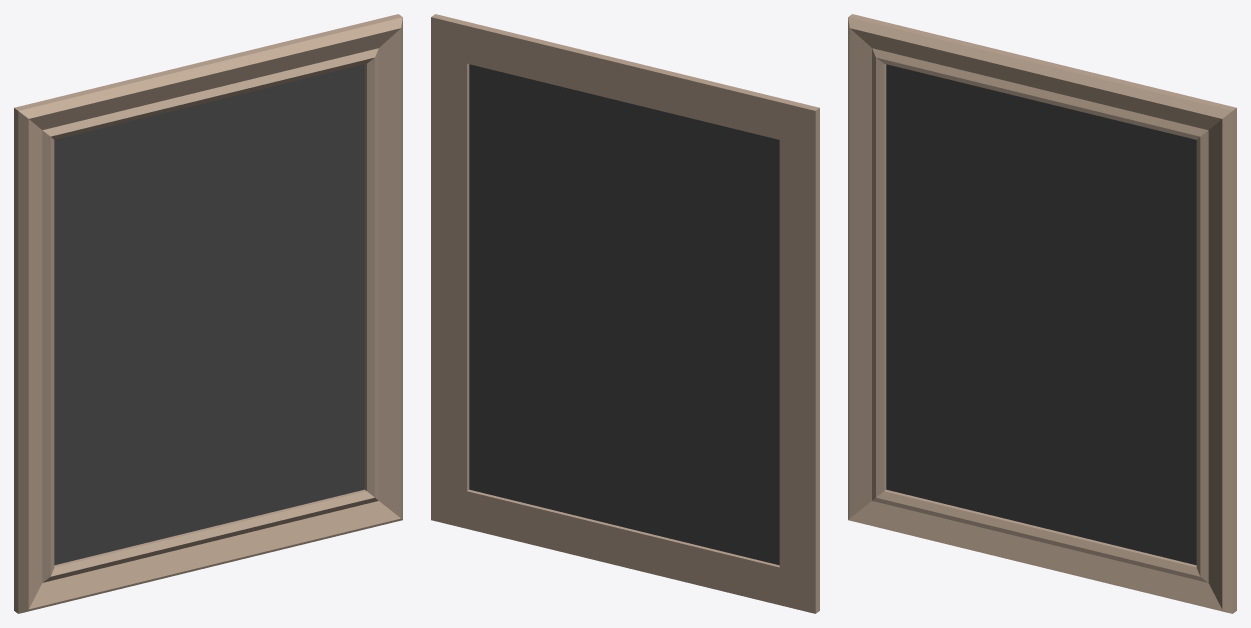
File: Prop_Misc_Picture_Portrait.glb
3 views of the same model, side by side, from view 1: azimuth 30°, elevation 25°; view 2: azimuth 150°, elevation 25°; view 3: azimuth 330°, elevation 25° (orthographic).
Visible parts, largest first — view 1: Prop_Misc_Picture_Portrait; view 2: Prop_Misc_Picture_Portrait; view 3: Prop_Misc_Picture_Portrait.
Boxes of the visible parts, box(x1,y1,x2,y2) form: Prop_Misc_Picture_Portrait: box(14, 14, 402, 613); Prop_Misc_Picture_Portrait: box(431, 14, 819, 613); Prop_Misc_Picture_Portrait: box(848, 14, 1236, 613).
Size of the model in its own units: 0.8 by 1 by 0.0312.
